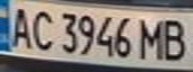3: (54, 9, 78, 54)
4: (93, 12, 118, 57)
6: (112, 13, 136, 60)
9: (75, 11, 96, 56)
A: (3, 2, 36, 51)
B: (157, 16, 190, 62)
C: (27, 7, 57, 52)
M: (136, 15, 169, 61)
